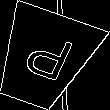P_S: (13, 28, 74, 89)
